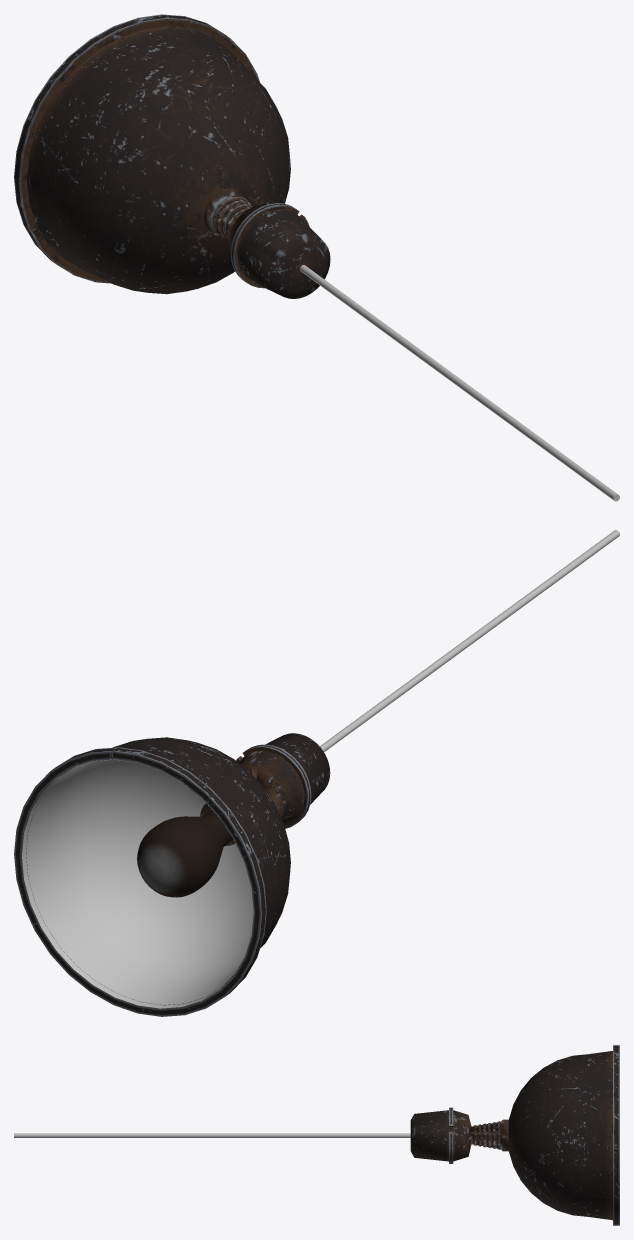
The model's file is lampa3_final.glb.
3 renders of one model, top to bottom at view 1: azimuth 30°, elevation 25°; view 2: azimuth 150°, elevation 25°; view 3: azimuth 270°, elevation 25°, orthographic. The views are drawn at different scales.
Visible parts, largest first — view 1: Cylinder.001; view 2: Cylinder.001; view 3: Cylinder.001.
Part boxes in pixels (bbox=[...]): Cylinder.001: bbox=[14, 14, 619, 501]; Cylinder.001: bbox=[14, 530, 619, 1016]; Cylinder.001: bbox=[14, 1045, 619, 1225].
Bounding box in the file's own units: 2.22 × 2.22 × 7.44.
1 material, 1 textured.
